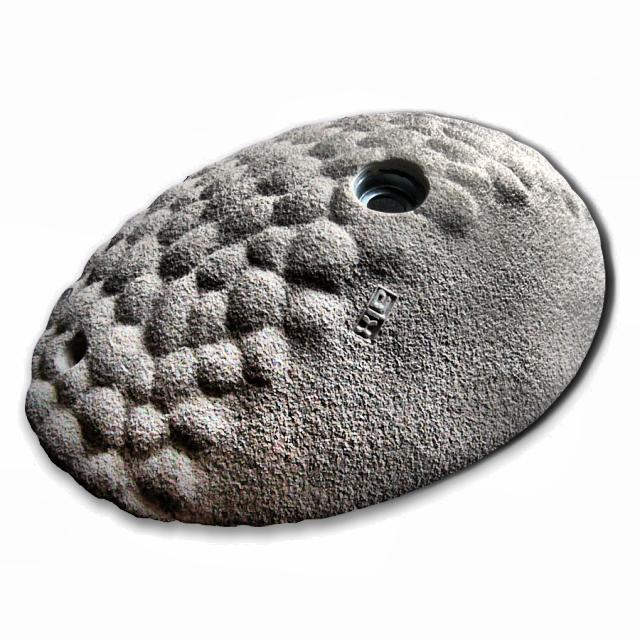Hold: (30, 105, 603, 528)
